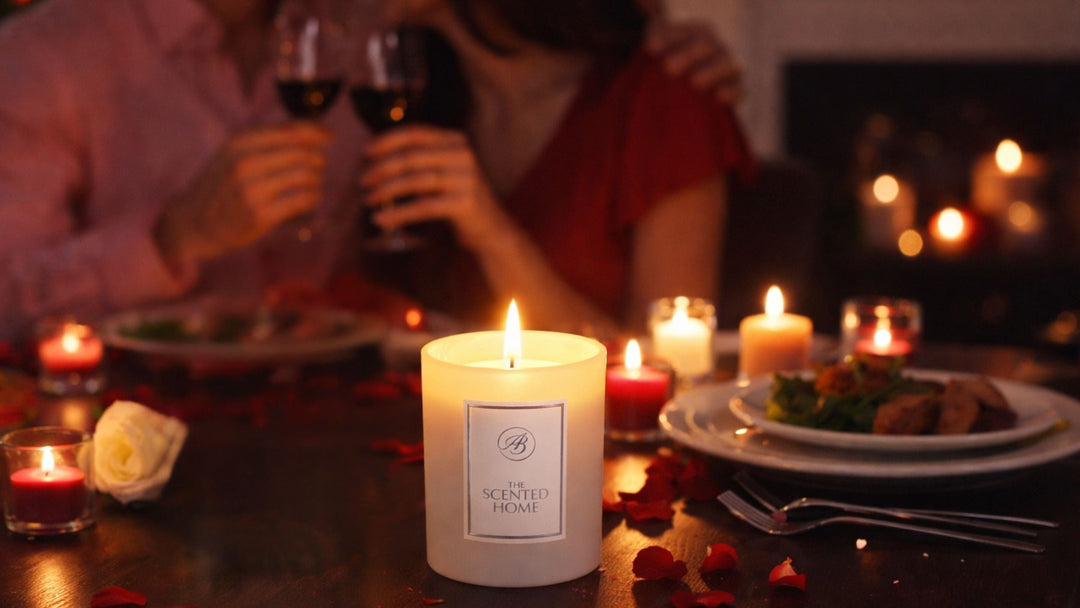Open-Flame-Hazard: (405, 281, 620, 598), (605, 276, 826, 449), (1, 410, 111, 554), (27, 285, 123, 403), (979, 117, 1049, 260), (845, 289, 925, 385), (854, 154, 912, 263), (917, 182, 985, 266)
